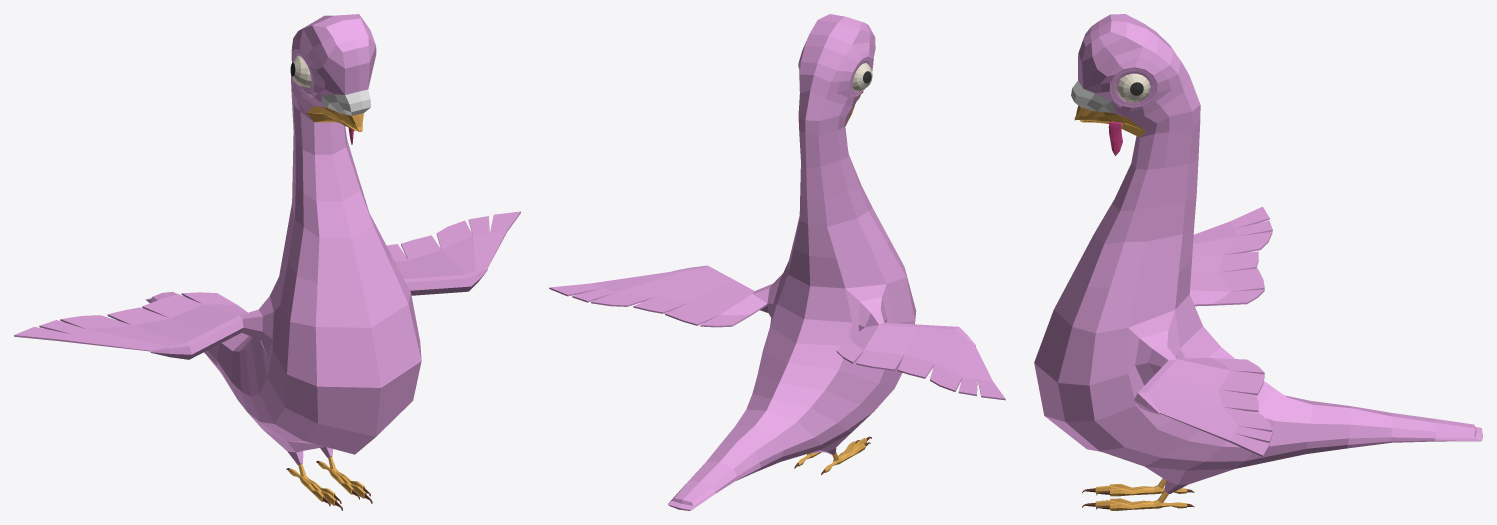
File: pigeon_02.fbx
The picture shows the model from 3 angles, left to right: view 1: azimuth 30°, elevation 25°; view 2: azimuth 150°, elevation 25°; view 3: azimuth 270°, elevation 25°; orthographic projection. The views are drawn at different scales.
Visible parts, largest first — view 1: pigeon; view 2: pigeon; view 3: pigeon.
Boxes of the visible parts, left/top/right/bottom form: pigeon: left=14, top=14, right=520, bottom=510; pigeon: left=549, top=14, right=1005, bottom=510; pigeon: left=1034, top=14, right=1482, bottom=510.
Size of the model in its own units: 400 by 359 by 304.
